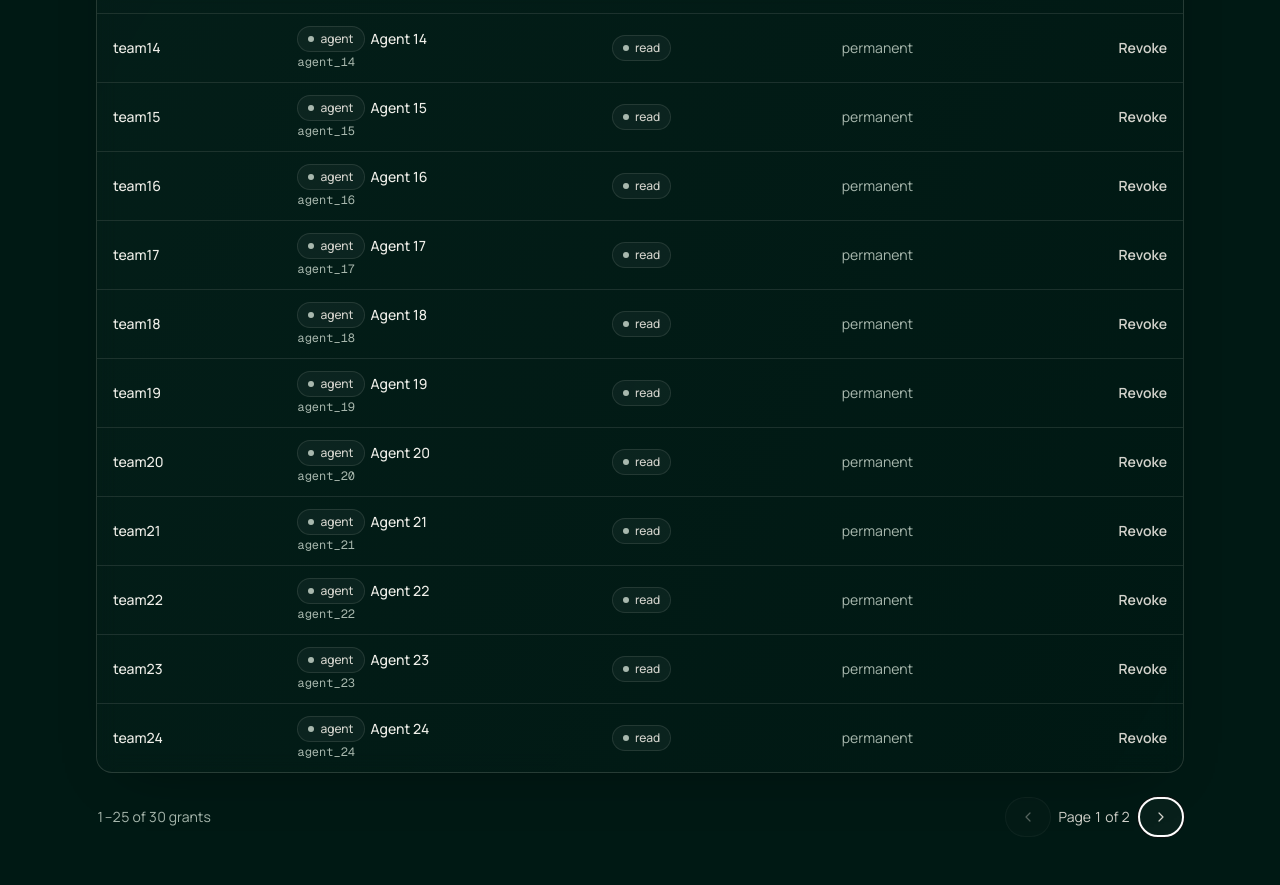
Test: Access pagers through a page turn › Grants: the pager stays, inert, and Next keeps focus
(page scrolled)
Click the button named "Next page". click: (1161, 817)
box: [1138,797,1184,837]
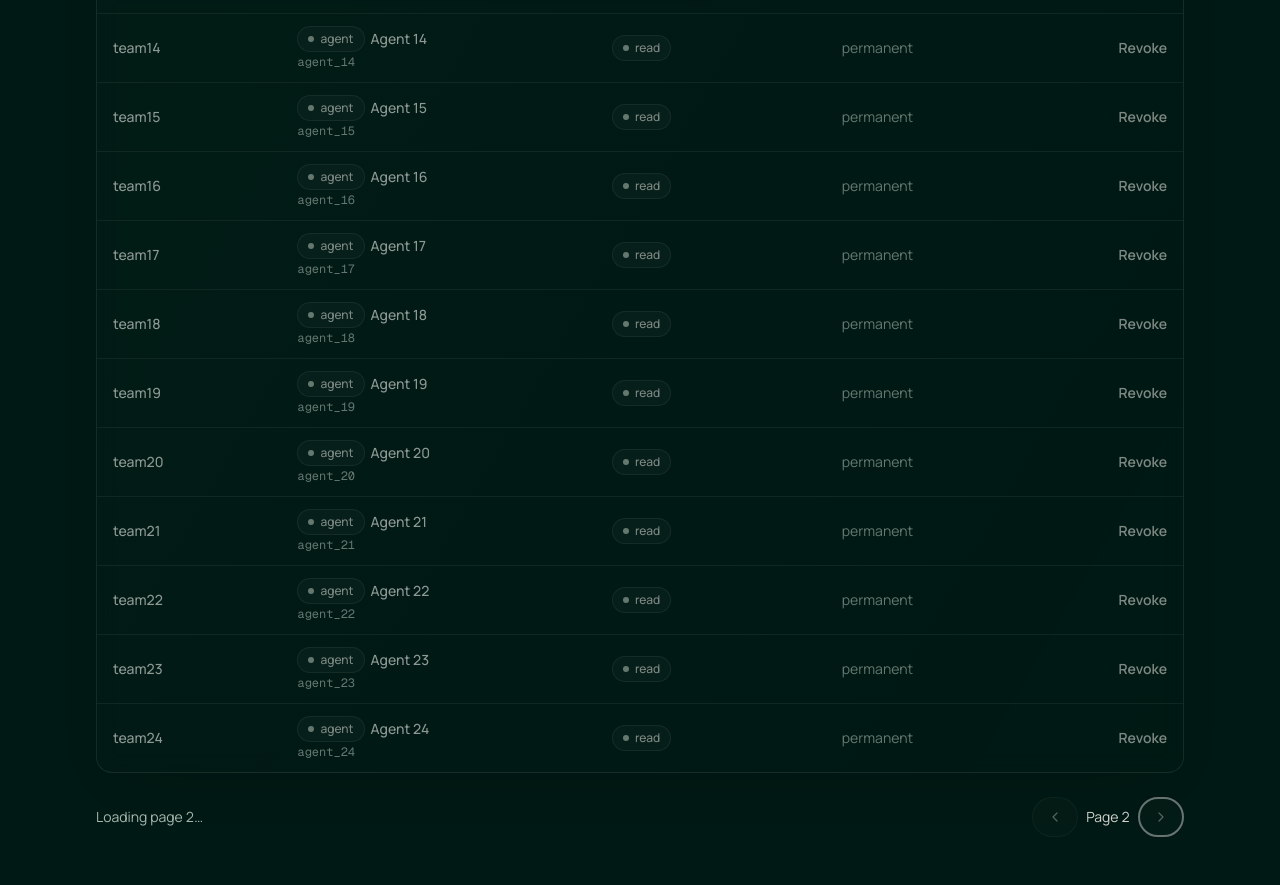
Check: the navigation bar named "Pages of grants" shows "Loading page 2…", box [96,807,203,826]
Check: the text "Pages of grants" no longer shows "of"
Click the button named "Next page". click: (1161, 817)
box: [1138,797,1184,837]
(page scrolled)
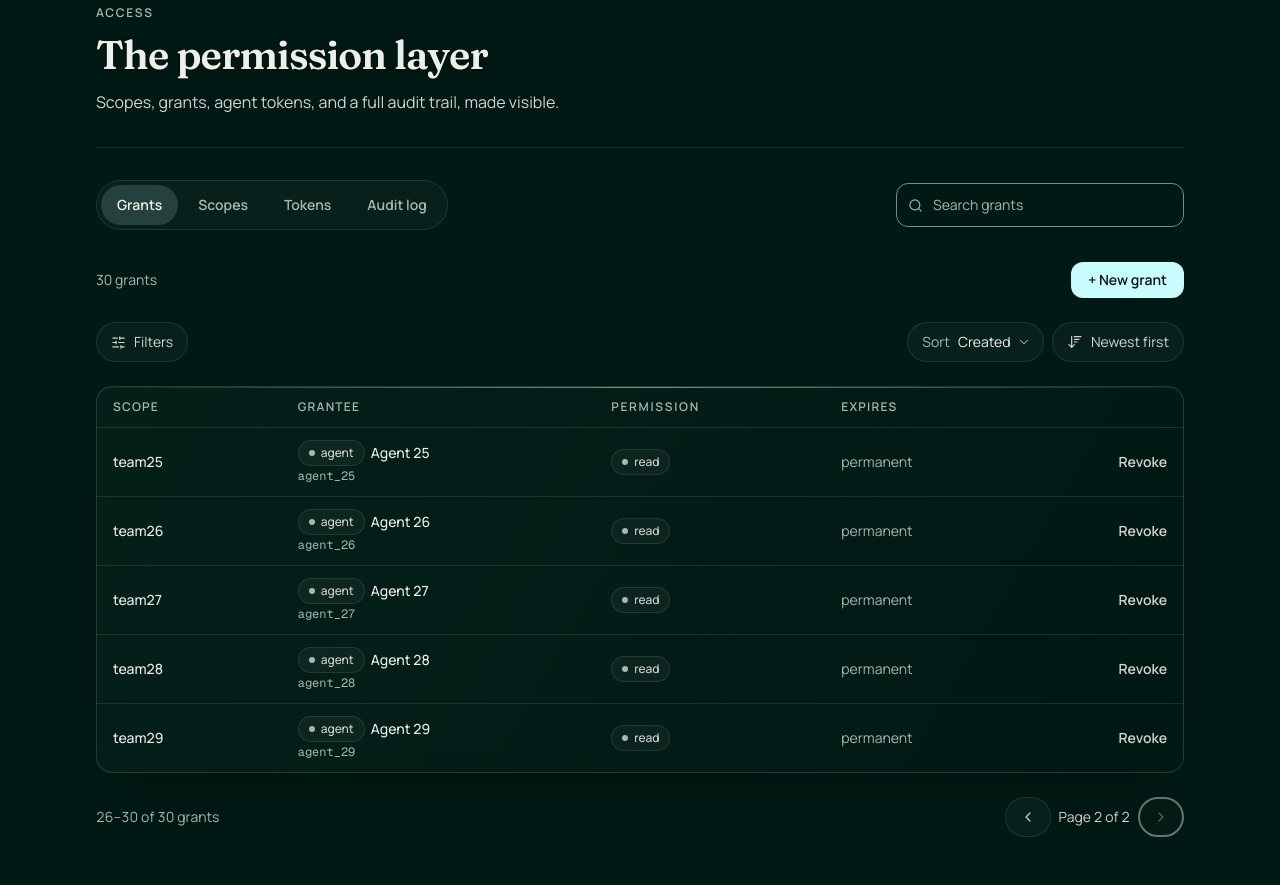
Check: the text "team25" is shown, box [113,452,163,471]
